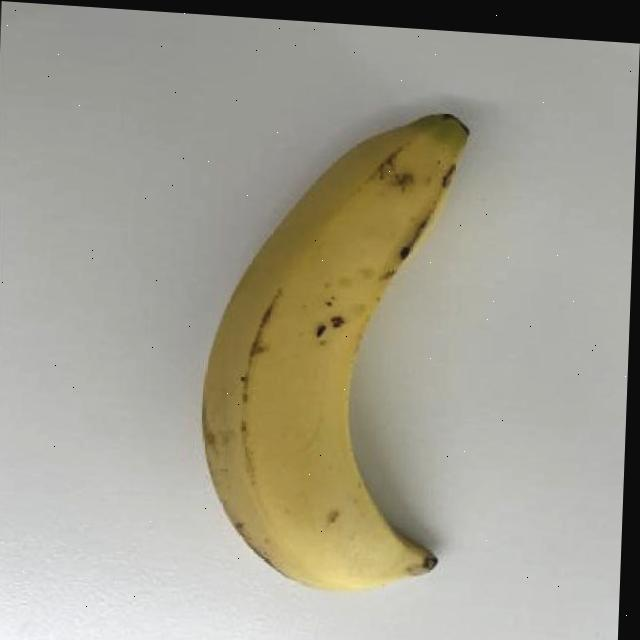banana: (191, 93, 482, 611)
